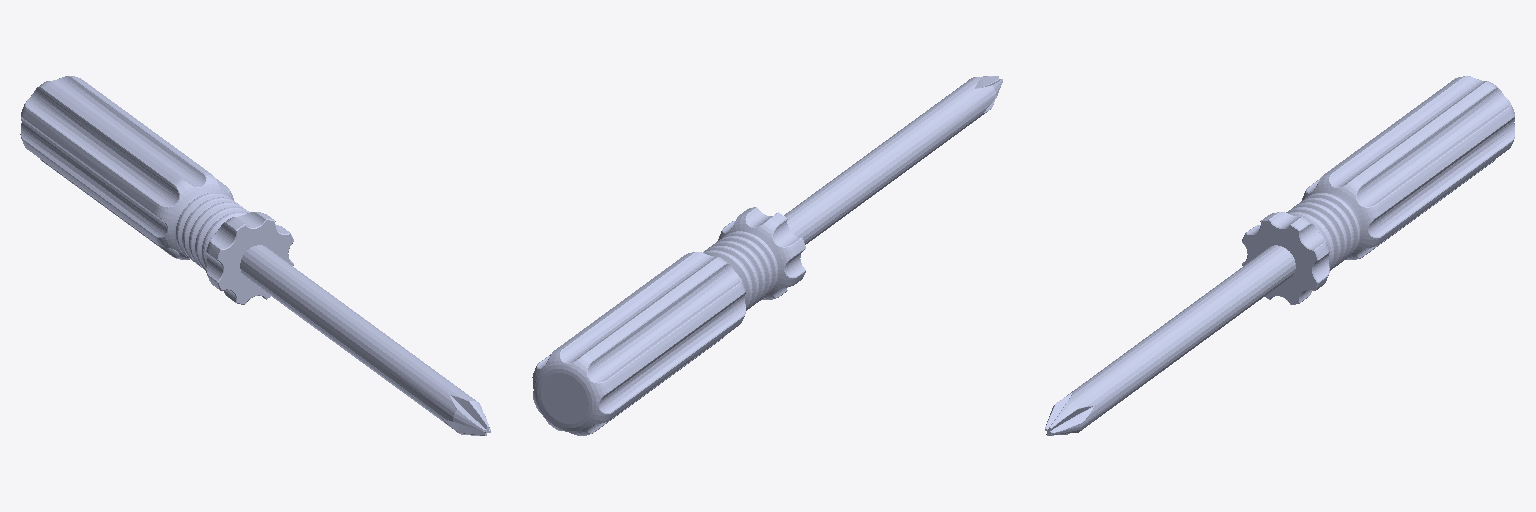
URDF robot description (screwdriver_phillips):
<robot
  name="screwdriver_phillips">
  <link
    name="screwdriver_phillips">
    <inertial>
      <origin
        xyz="-2.4003E-07 -0.14843 -8.07949999909116E-08"
        rpy="0 0 0" />
      <mass
        value="0.44296" />
      <inertia
        ixx="0.00499676694642262"
        ixy="1.34705866579092E-08"
        ixz="-3.58686547860022E-08"
        iyy="8.96716514132398E-05"
        iyz="-3.90633667998312E-09"
        izz="0.00499669683331358" />
    </inertial>
    <visual>
      <origin
        xyz="0 0 0"
        rpy="0 0 0" />
      <geometry>
        <mesh
          filename="package://screwdriver_phillips/meshes/screwdriver_phillips.dae" />
      </geometry>
      <material
        name="">
        <color
          rgba="0.79216 0.81961 0.93333 1" />
      </material>
    </visual>
    <collision>
      <origin
        xyz="0 0 0"
        rpy="0 0 0" />
      <geometry>
        <mesh
          filename="package://screwdriver_phillips/meshes/screwdriver_phillips.dae" />
      </geometry>
    </collision>
  </link>
</robot>

--- Render facts (derived) ---
Views: 3 orthographic renders of the robot side by side, from view 1: azimuth 30°, elevation 25°; view 2: azimuth 150°, elevation 25°; view 3: azimuth 330°, elevation 25°.
Robot: screwdriver_phillips — 1 links, 0 joints (none); root link screwdriver_phillips; default pose: all joints at 0.
Visible links, largest first — view 1: screwdriver_phillips; view 2: screwdriver_phillips; view 3: screwdriver_phillips.
Boxes of the visible links, x1=… form: screwdriver_phillips: x1=20, y1=76, x2=490, y2=435; screwdriver_phillips: x1=532, y1=76, x2=1002, y2=435; screwdriver_phillips: x1=1045, y1=76, x2=1514, y2=435.
Bounding box of the posed robot: 0.0481 × 0.47 × 0.0481 m (x, y, z).
Meshes: 1 distinct files referenced, 1 mesh visuals loaded (1 Collada DAE).